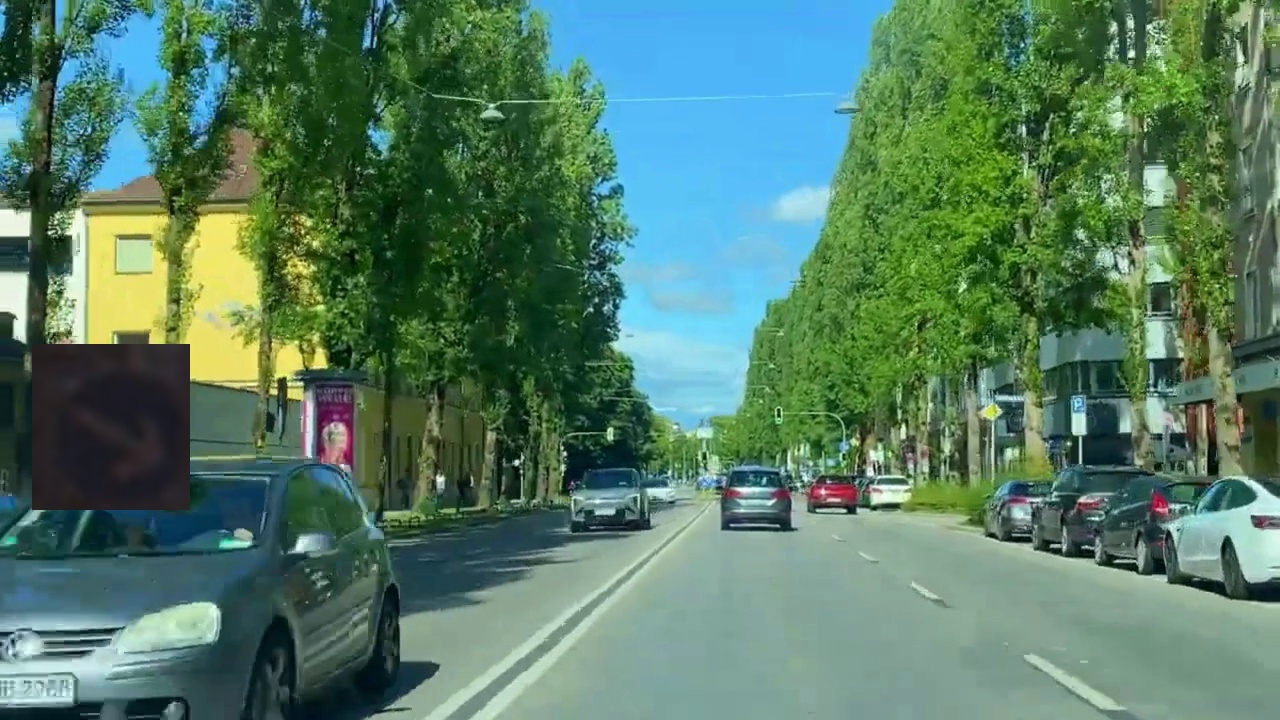Keep right: (32, 344, 190, 510)
